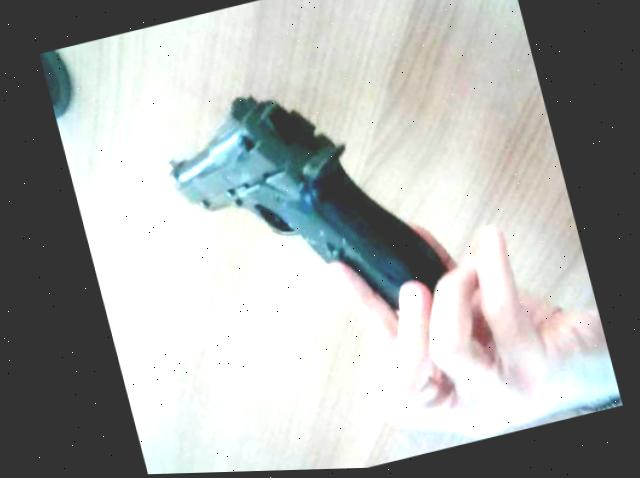pistol: (124, 58, 485, 388)
